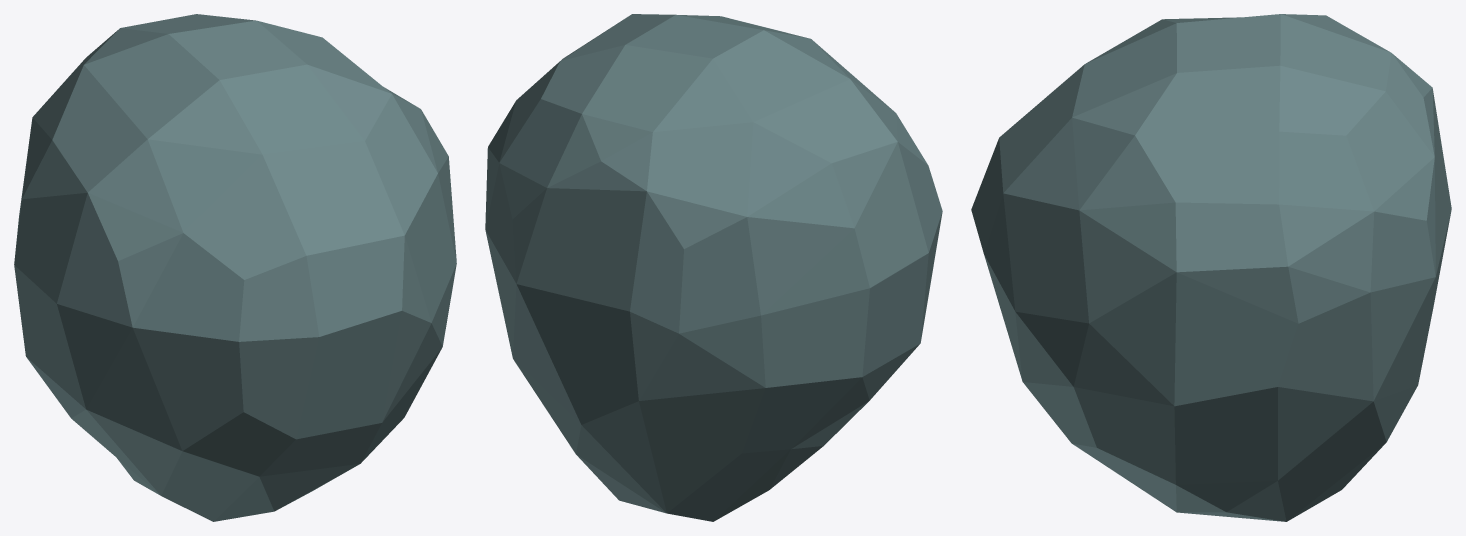
File: SM_LP_RefinedMetal_2.fbx
3 views of the same model, side by side, from view 1: azimuth 30°, elevation 25°; view 2: azimuth 150°, elevation 25°; view 3: azimuth 270°, elevation 25° (orthographic). The views are drawn at different scales.
Visible parts, largest first — view 1: SM_LP_RefinedMetal_2; view 2: SM_LP_RefinedMetal_2; view 3: SM_LP_RefinedMetal_2.
Part boxes in pixels (box(x1,y1,x2,y2)): SM_LP_RefinedMetal_2: box(14, 14, 456, 521); SM_LP_RefinedMetal_2: box(485, 14, 942, 521); SM_LP_RefinedMetal_2: box(971, 14, 1451, 521).
Size of the model in its own units: 0.296 by 0.3275 by 0.307.
